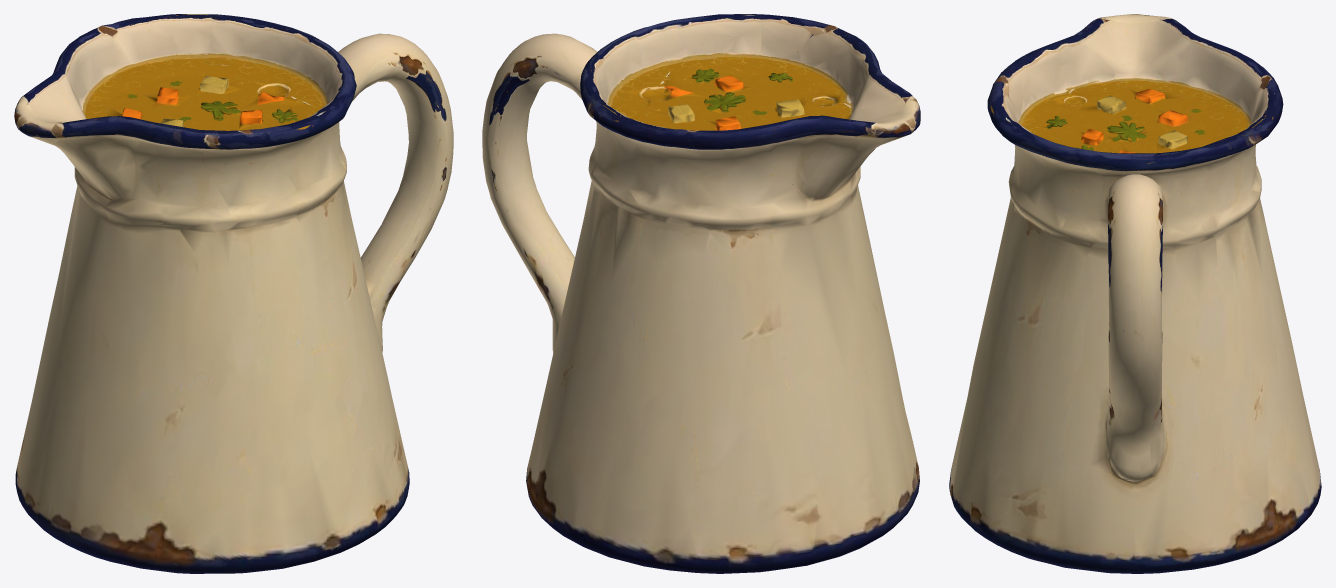
The model's file is d_broth_jug.glb.
3 views of the same model, side by side, from view 1: azimuth 30°, elevation 25°; view 2: azimuth 150°, elevation 25°; view 3: azimuth 270°, elevation 25° (orthographic). The views are drawn at different scales.
Size of the model in its own units: 1.9 by 1.83 by 1.51.
1 material, 1 textured.
